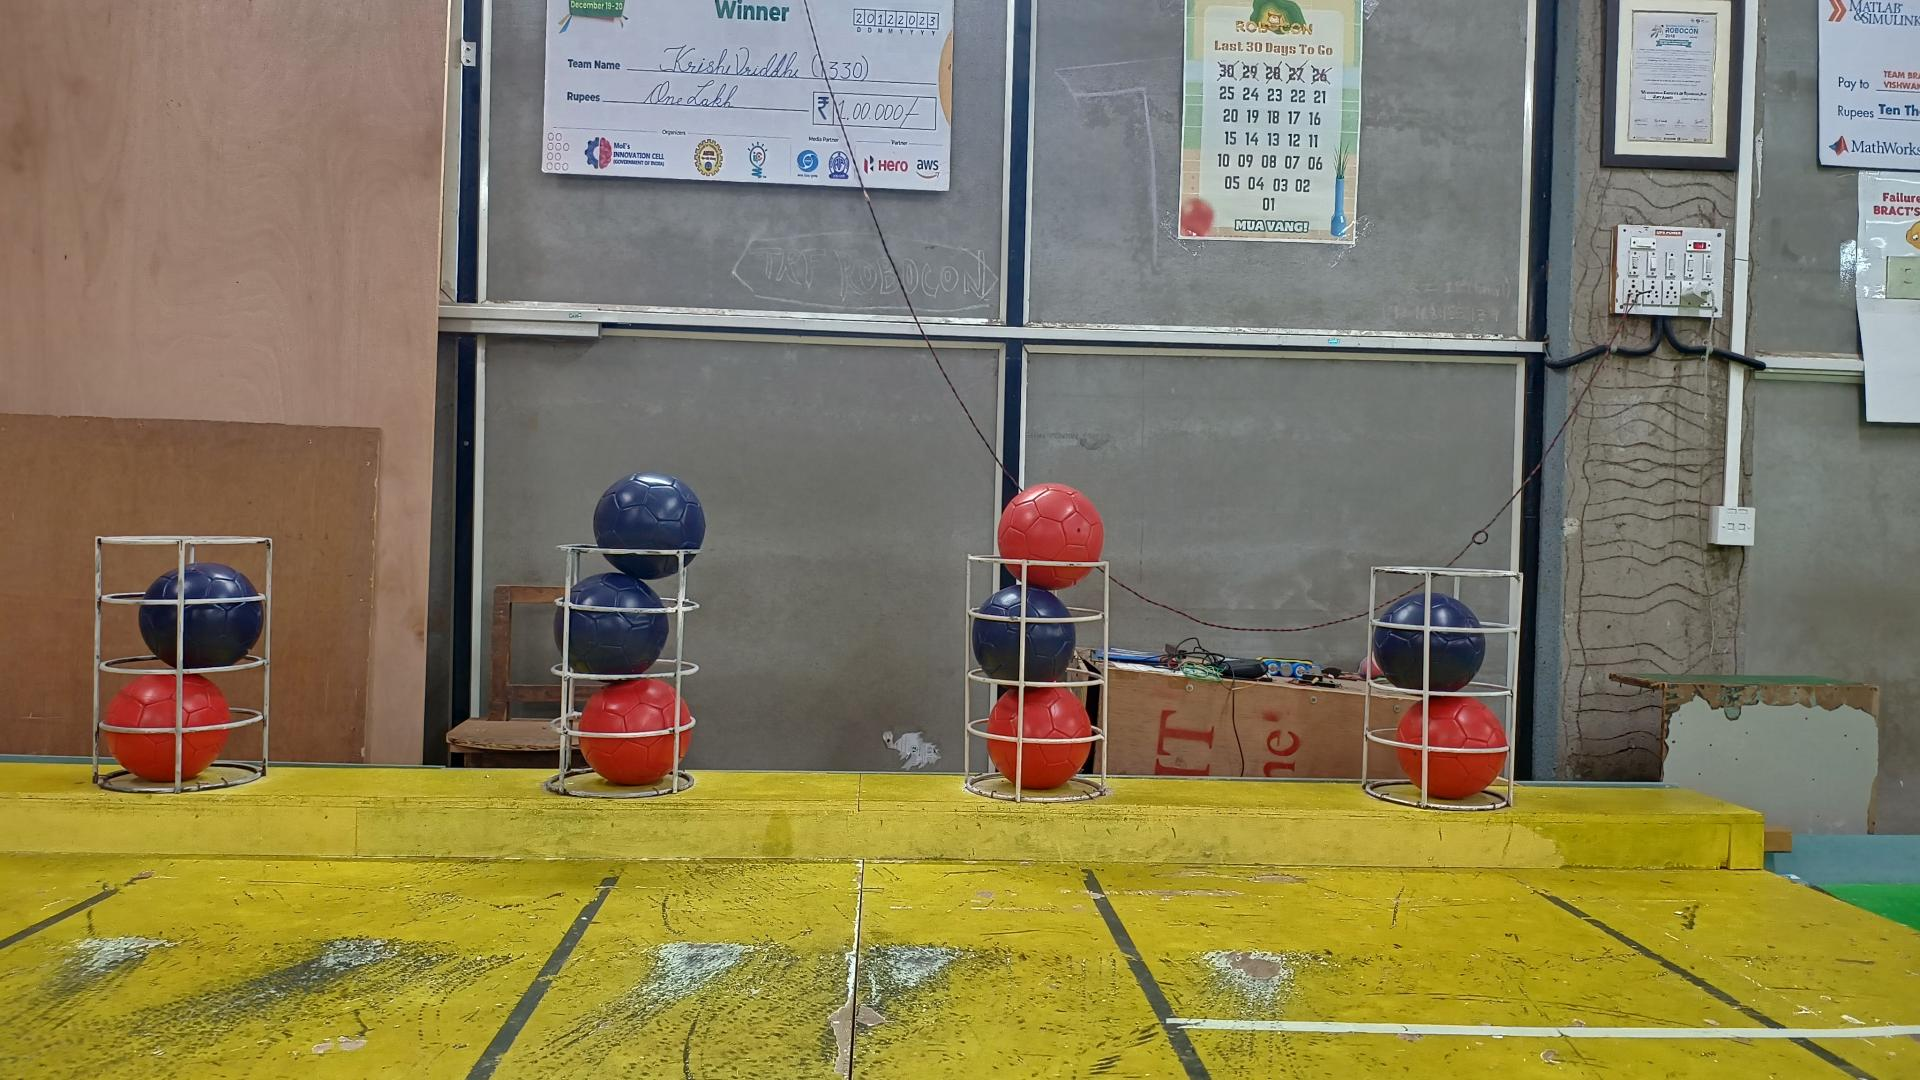dhoka: (138, 563, 262, 667), (592, 472, 705, 582), (1373, 588, 1485, 694), (555, 574, 671, 675), (972, 585, 1076, 683)
laale: (105, 675, 232, 783), (578, 679, 694, 783), (1395, 698, 1507, 799), (997, 484, 1102, 588), (986, 686, 1095, 787)
